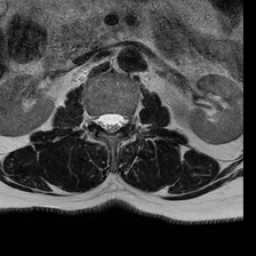CCS_normal: (107, 104, 115, 139)
LFS_normal: (124, 106, 133, 133)
LLS_normal: (115, 106, 124, 133)
RFS_normal: (90, 106, 99, 130)
RLS_normal: (98, 105, 107, 131)
